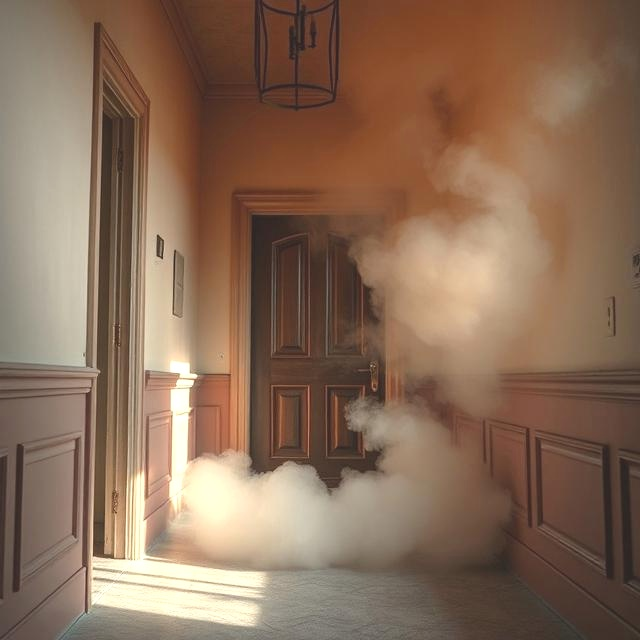smoke: (141, 79, 633, 575)
